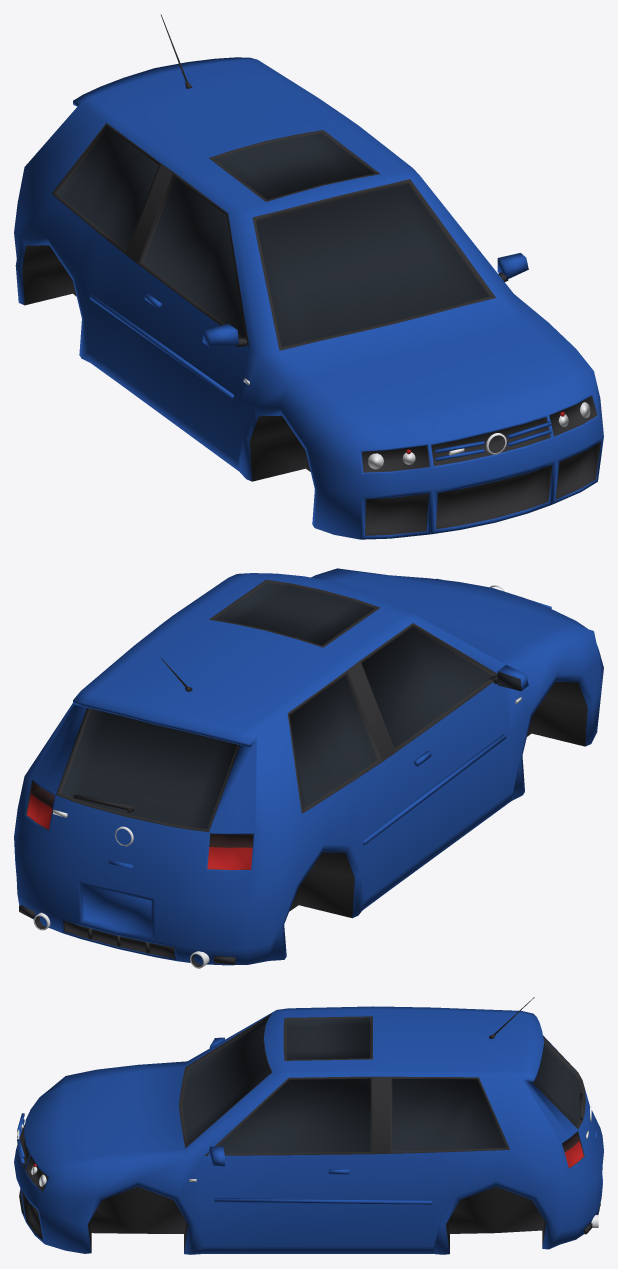
File: Volkswagen Golf R32 Mk4.glb
The picture shows the model from 3 angles, top to bottom: view 1: azimuth 30°, elevation 25°; view 2: azimuth 150°, elevation 25°; view 3: azimuth 270°, elevation 25°; orthographic projection. The views are drawn at different scales.
Visible parts, largest first — view 1: Body, Details; view 2: Body, Details; view 3: Body, Details.
Part boxes in pixels (left/top/right/bottom): Body: left=14, top=57, right=603, bottom=539; Details: left=89, top=14, right=590, bottom=489; Body: left=14, top=568, right=603, bottom=965; Details: left=19, top=578, right=551, bottom=968; Body: left=14, top=1006, right=603, bottom=1254; Details: left=17, top=997, right=600, bottom=1234.
Bounding box in the file's own units: 2 × 1.61 × 4.17.
